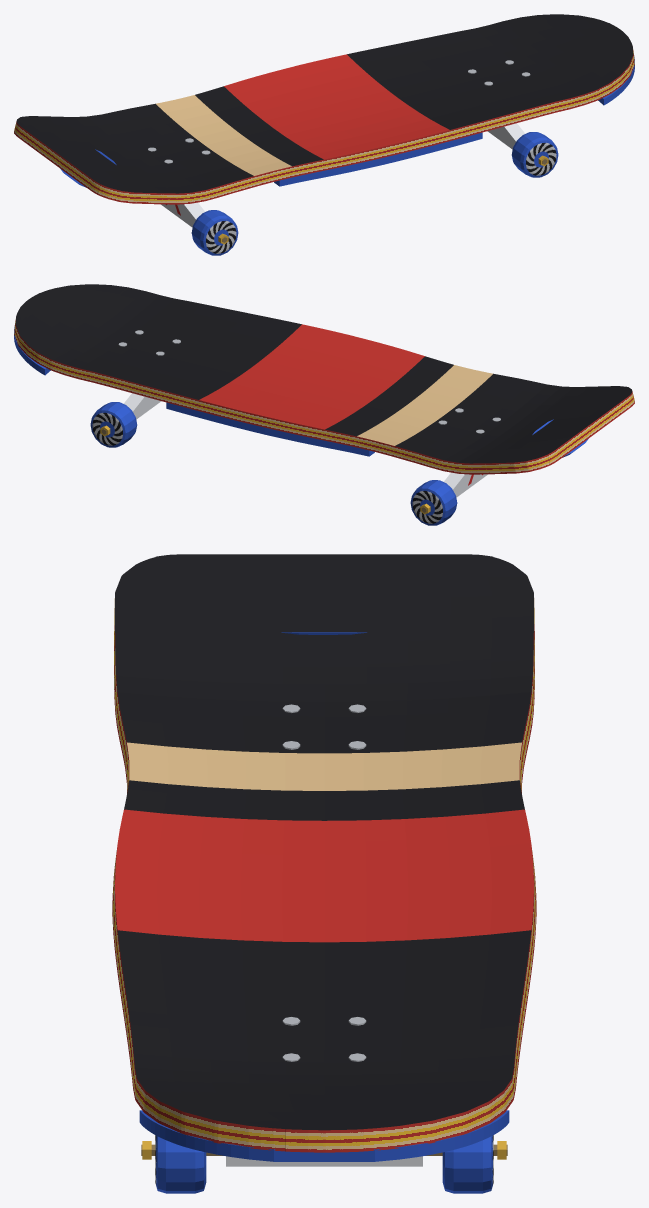
Rendered from board-slab.glb.
3 renders of one model, top to bottom at view 1: azimuth 30°, elevation 25°; view 2: azimuth 150°, elevation 25°; view 3: azimuth 270°, elevation 25°, orthographic. The views are drawn at different scales.
Visible parts, largest first — view 1: Board; view 2: Board; view 3: Board.
Part boxes in pixels (bbox=[...]): Board: bbox=[14, 14, 634, 255]; Board: bbox=[14, 284, 634, 525]; Board: bbox=[112, 554, 536, 1193].
Bounding box in the file's own units: 0.9574 × 0.1646 × 0.3101.
Materials: 13 (2 with a texture image).
